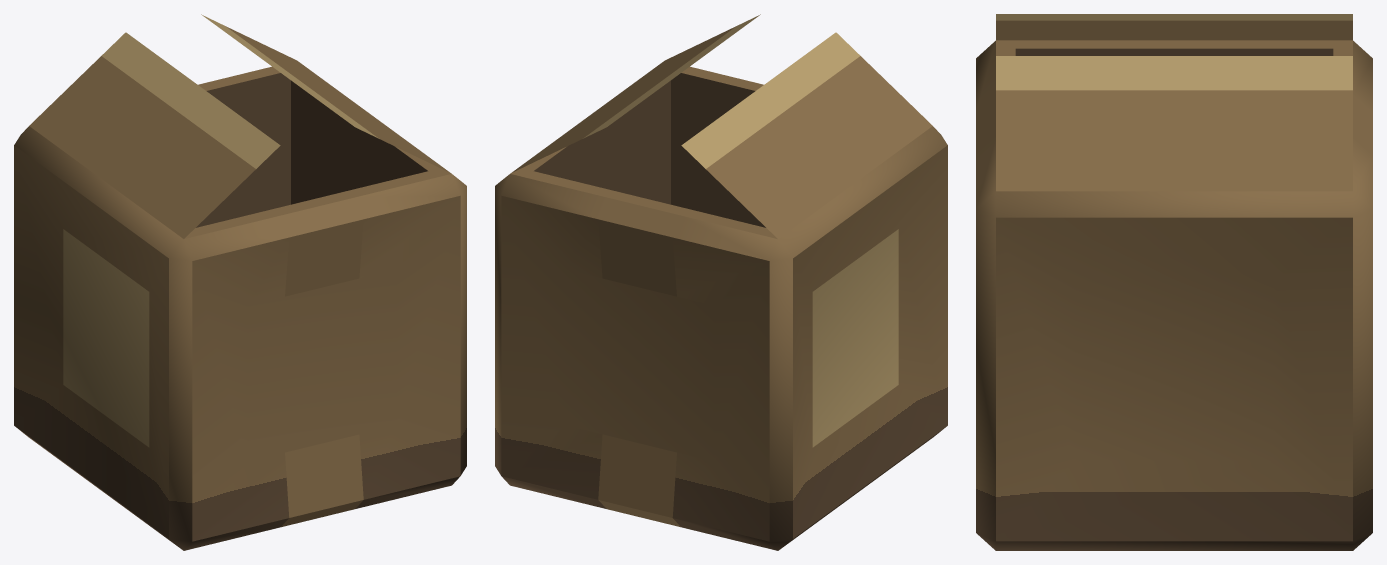
File: supplies-open-box.glb
The picture shows the model from 3 angles, left to right: view 1: azimuth 30°, elevation 25°; view 2: azimuth 150°, elevation 25°; view 3: azimuth 270°, elevation 25°; orthographic projection. The views are drawn at different scales.
Visible parts, largest first — view 1: supplies-open-box runtime mesh; view 2: supplies-open-box runtime mesh; view 3: supplies-open-box runtime mesh.
Boxes of the visible parts, left/top/right/bottom form: supplies-open-box runtime mesh: left=14, top=14, right=466, bottom=550; supplies-open-box runtime mesh: left=495, top=14, right=947, bottom=550; supplies-open-box runtime mesh: left=976, top=14, right=1372, bottom=550.
Bounding box in the file's own units: 0.4898 × 0.6 × 0.4898.
Materials: 1 (1 with a texture image).
